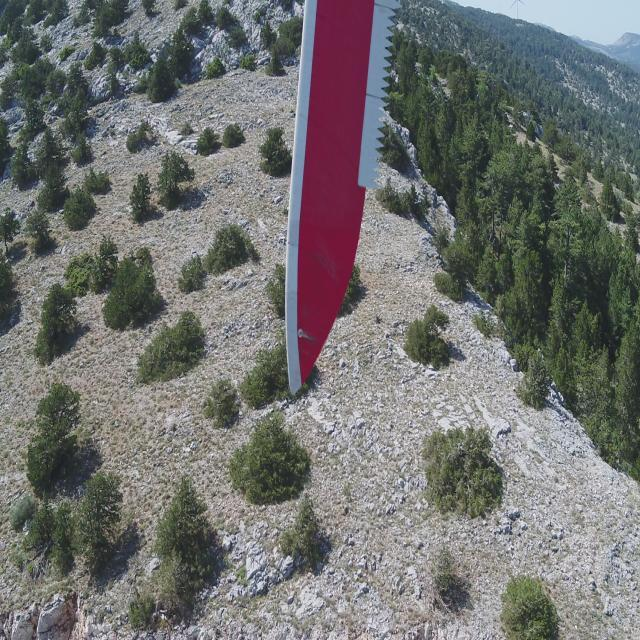Burn Mark: (298, 328, 316, 343)
